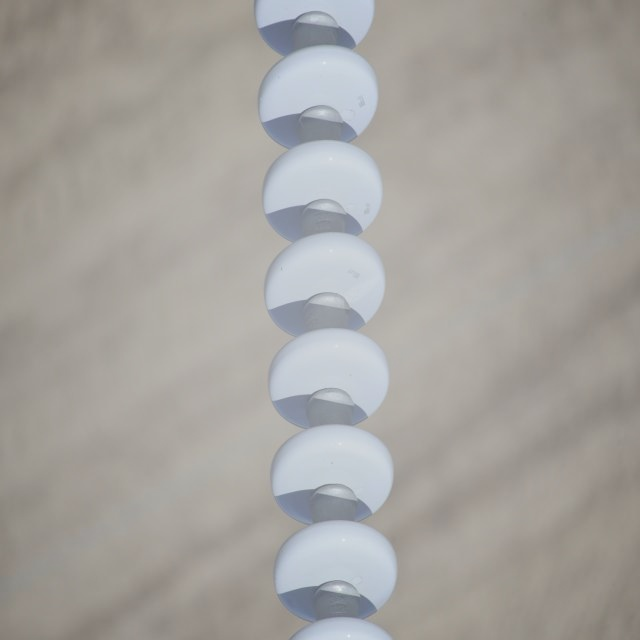insulator: (255, 0, 400, 638)
